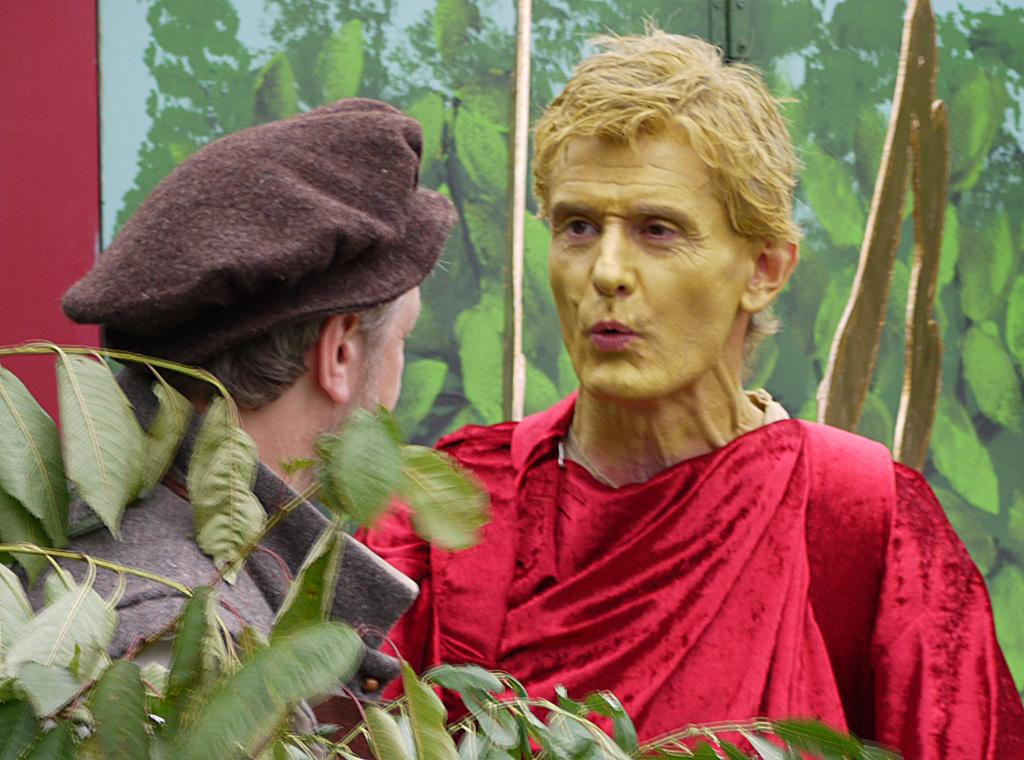Hat: (46, 97, 456, 340)
